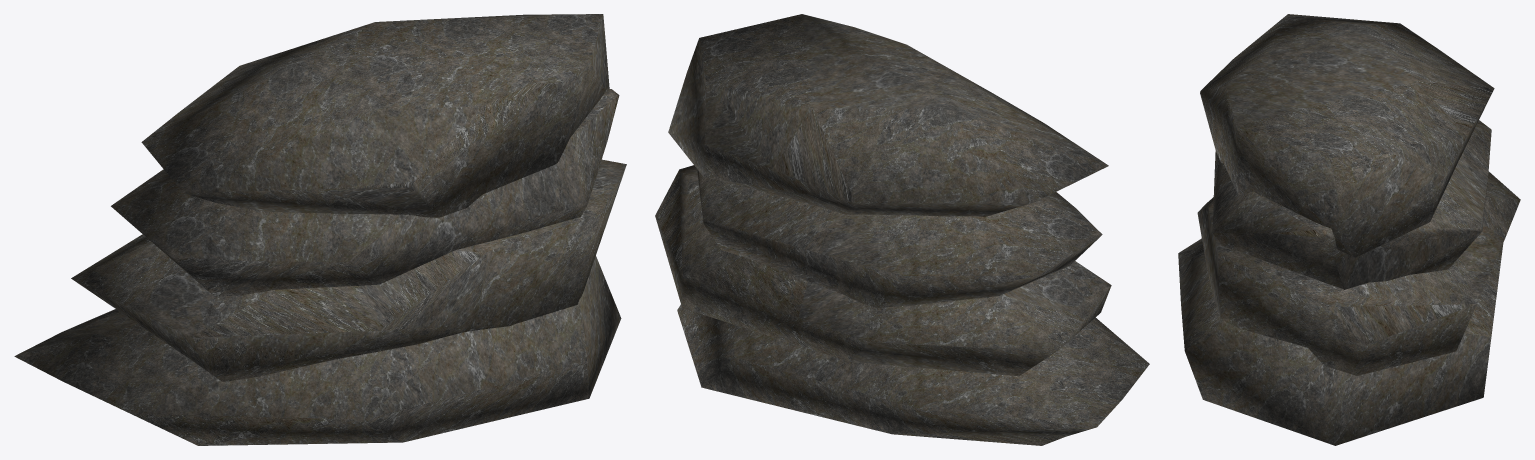
The model's file is stratified_outcrop_LOD2.fbx.
3 renders of one model, left to right at view 1: azimuth 30°, elevation 25°; view 2: azimuth 150°, elevation 25°; view 3: azimuth 270°, elevation 25°, orthographic. The views are drawn at different scales.
Parts seen in each view (by area): view 1: stratified_outcrop_LOD2; view 2: stratified_outcrop_LOD2; view 3: stratified_outcrop_LOD2.
Boxes of the visible parts, <box> form: stratified_outcrop_LOD2: <box>14,14,626,445</box>; stratified_outcrop_LOD2: <box>655,14,1149,445</box>; stratified_outcrop_LOD2: <box>1178,14,1520,445</box>.
Size of the model in its own units: 580 by 319 by 350.
